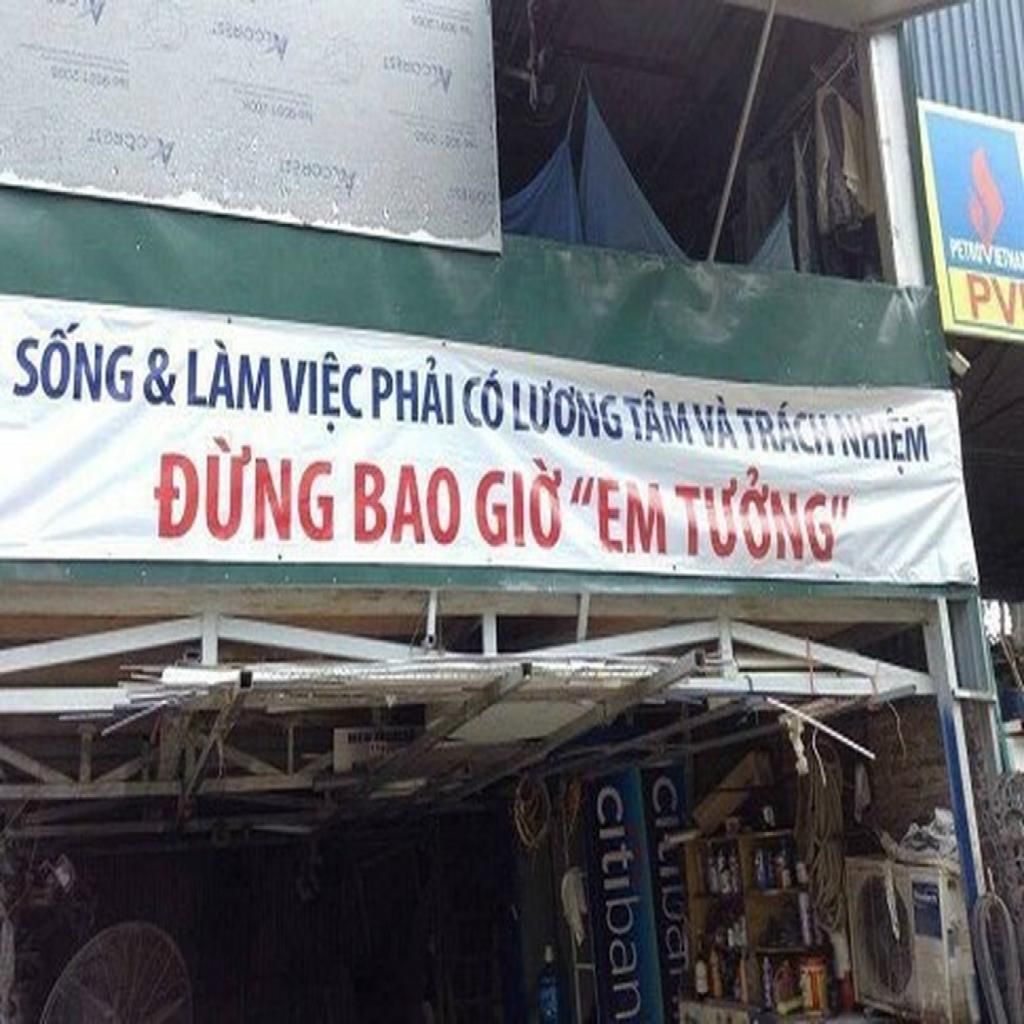text: (147, 425, 342, 555), (668, 466, 859, 576), (586, 778, 650, 1024), (4, 317, 139, 410), (346, 454, 465, 553), (470, 449, 568, 564), (568, 466, 677, 568), (833, 399, 937, 489), (182, 326, 276, 424), (507, 373, 629, 448), (276, 338, 366, 436), (732, 393, 839, 462), (370, 350, 456, 434), (620, 379, 696, 451), (687, 387, 745, 456), (460, 361, 508, 442), (964, 268, 1022, 329)
